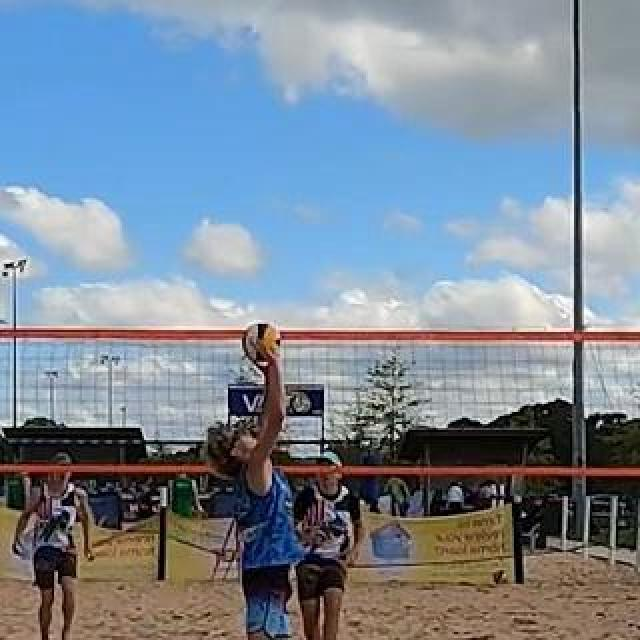volleyball: (244, 321, 282, 361), (493, 567, 509, 585)
